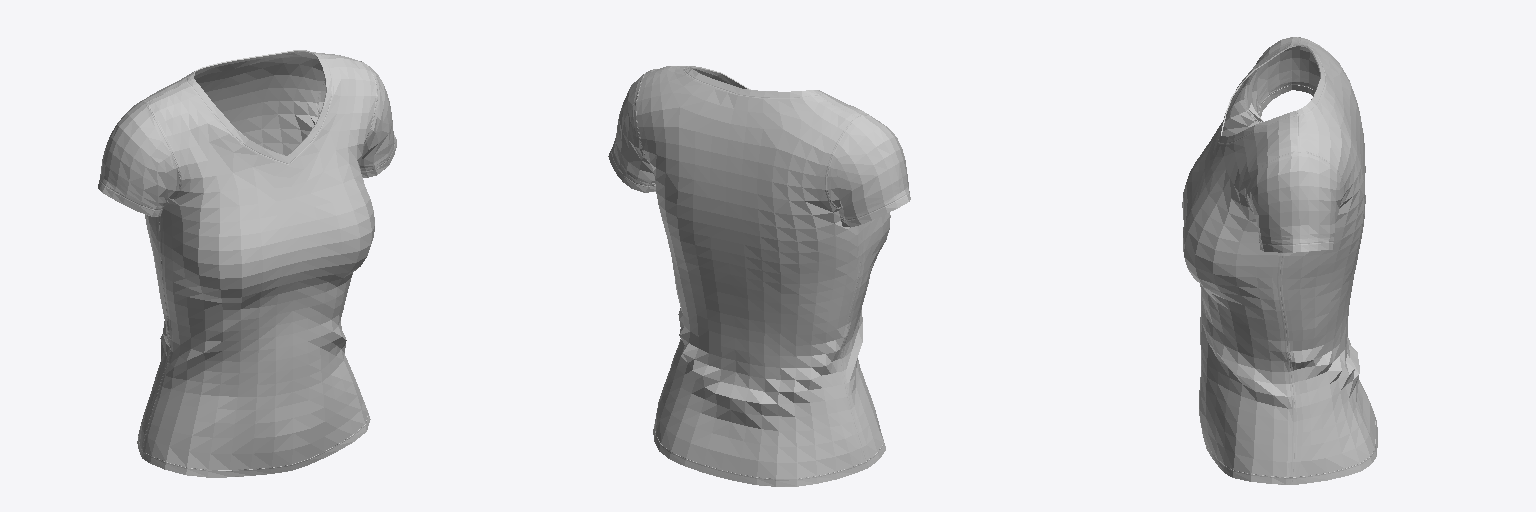
Rendered from female_shirt_8.obj.
3 views of the same model, side by side, from view 1: azimuth 30°, elevation 25°; view 2: azimuth 150°, elevation 25°; view 3: azimuth 270°, elevation 25° (orthographic).
Visible parts, largest first — view 1: shirts.001; view 2: shirts.001; view 3: shirts.001.
Part boxes in pixels (x1,y1,x2,y2): shirts.001: (98,50,396,477); shirts.001: (608,66,910,486); shirts.001: (1182,37,1377,484).
Size of the model in its own units: 3.01 by 3.64 by 1.73.